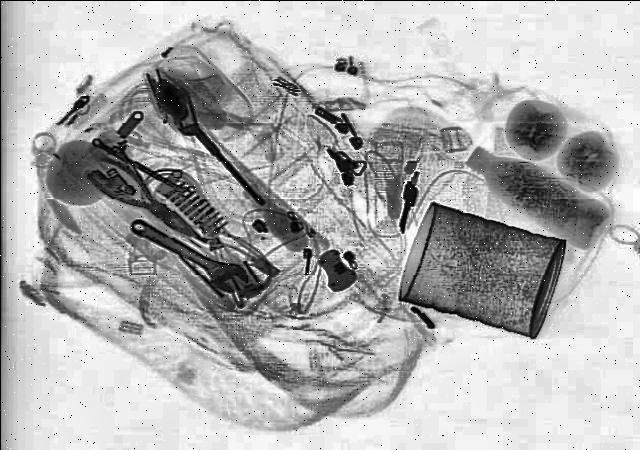Pliers: (70, 154, 214, 248)
Wrench: (114, 213, 256, 297)
